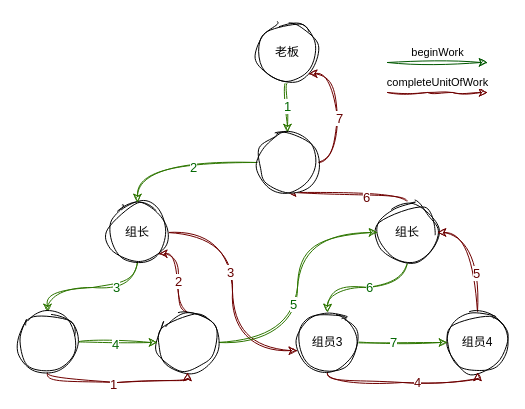
This 525x409 diagram has some shape labels left out. The centre of each missing label's shape, as x and y in pixels:
"主管" goes at pixel 287 162.
"组员1" goes at pixel 47 342.
"组员2" goes at pixel 187 342.
